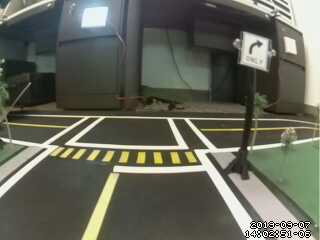Right_only_sign: (241, 31, 267, 71)
